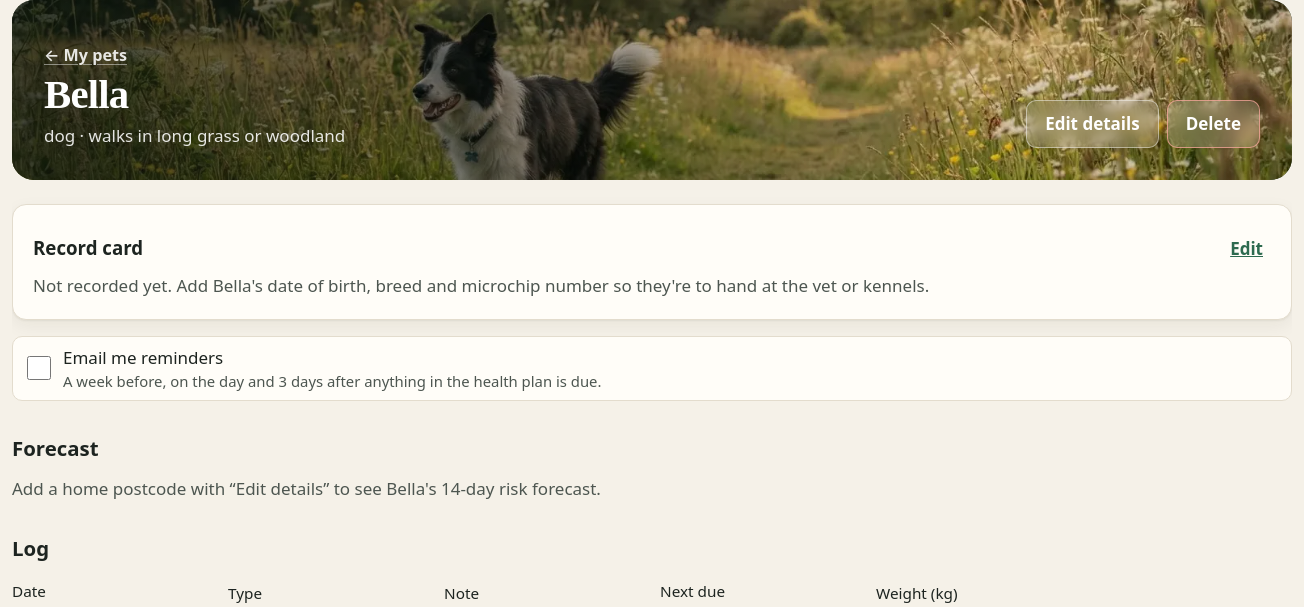
Test: PetPage › shows and edits the pet’s record card: born, breed, sex and microchip (v4)
Expected: the text "Not recorded" is shown, [33,274,213,297]
Click the button named "Edit record card" at (1247, 249), box [1222,225,1271,273]
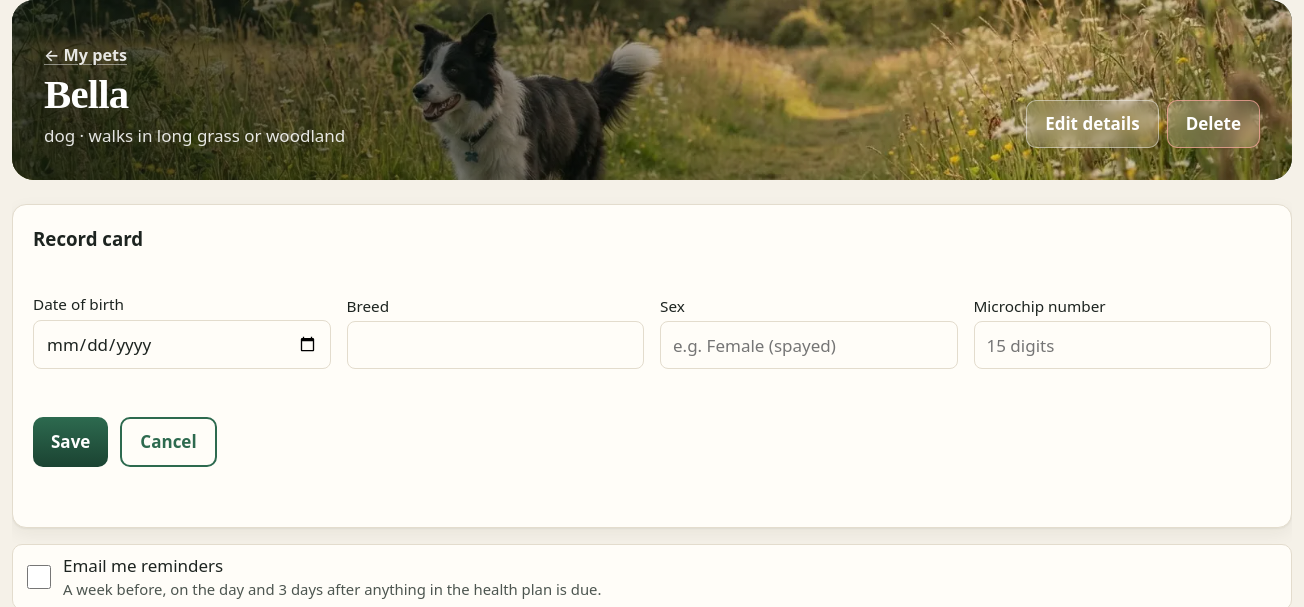
Type "2019-04-02" into the date field labelled "Date of birth" at (182, 345), box [33,320,330,370]
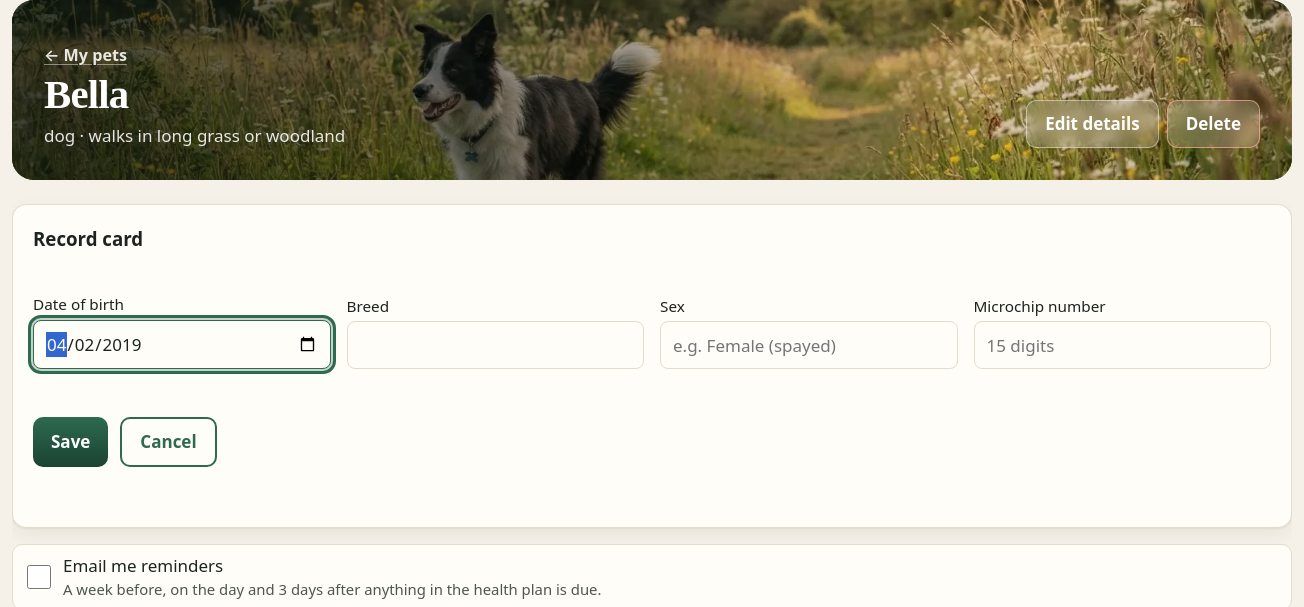
Type "Border collie" into the field labelled "Breed" at (495, 346), box [346,322,644,370]
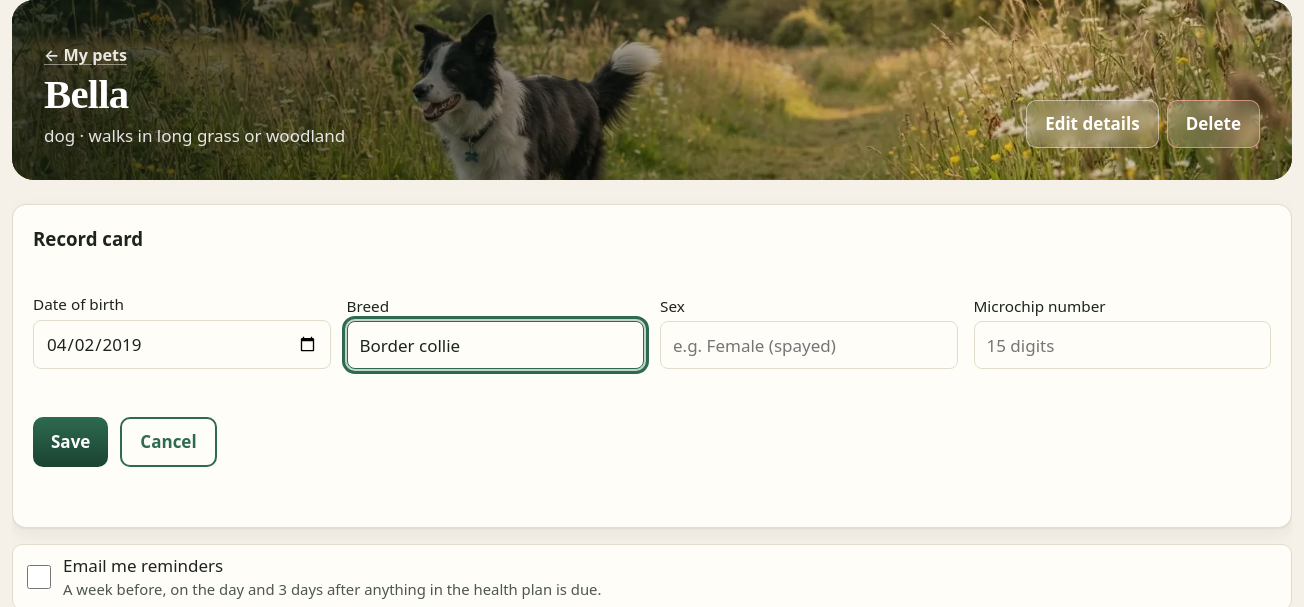
Type "Female (spayed)" into the field labelled "Sex" at (809, 346), box [660,322,958,370]
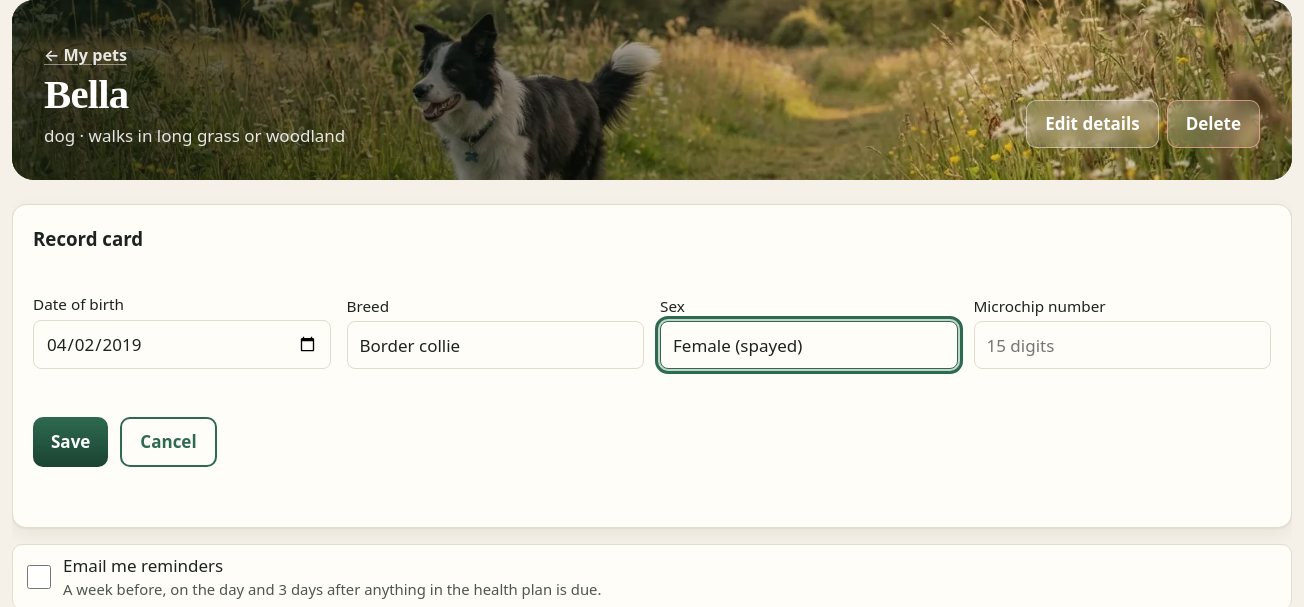
Type "985112000123456" into the field labelled "Microchip number" at (1122, 346), box [974,322,1271,370]
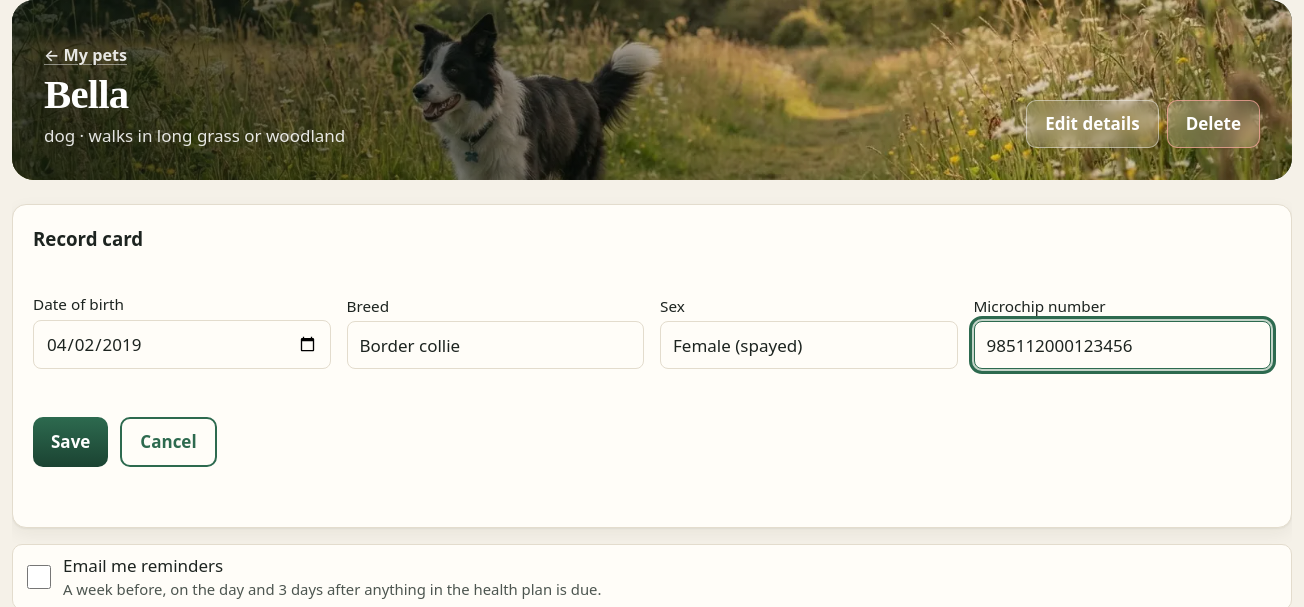
Click the button "Save" at (71, 442), box [33,418,108,467]
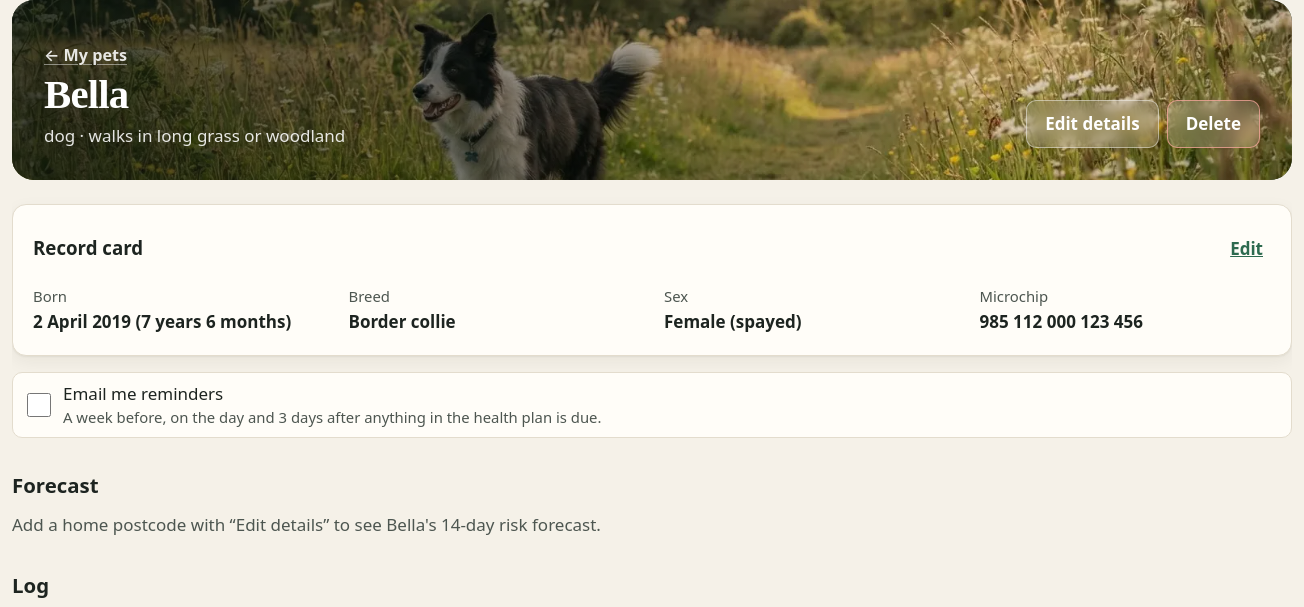
Expected: the text "Border collie" is shown, [348,310,456,333]
Expected: the text "985 112 000 123 456" is shown, [980,310,1143,333]
Expected: the text "2 April 2019 (7 years 6 months)" is shown, [33,310,291,333]
